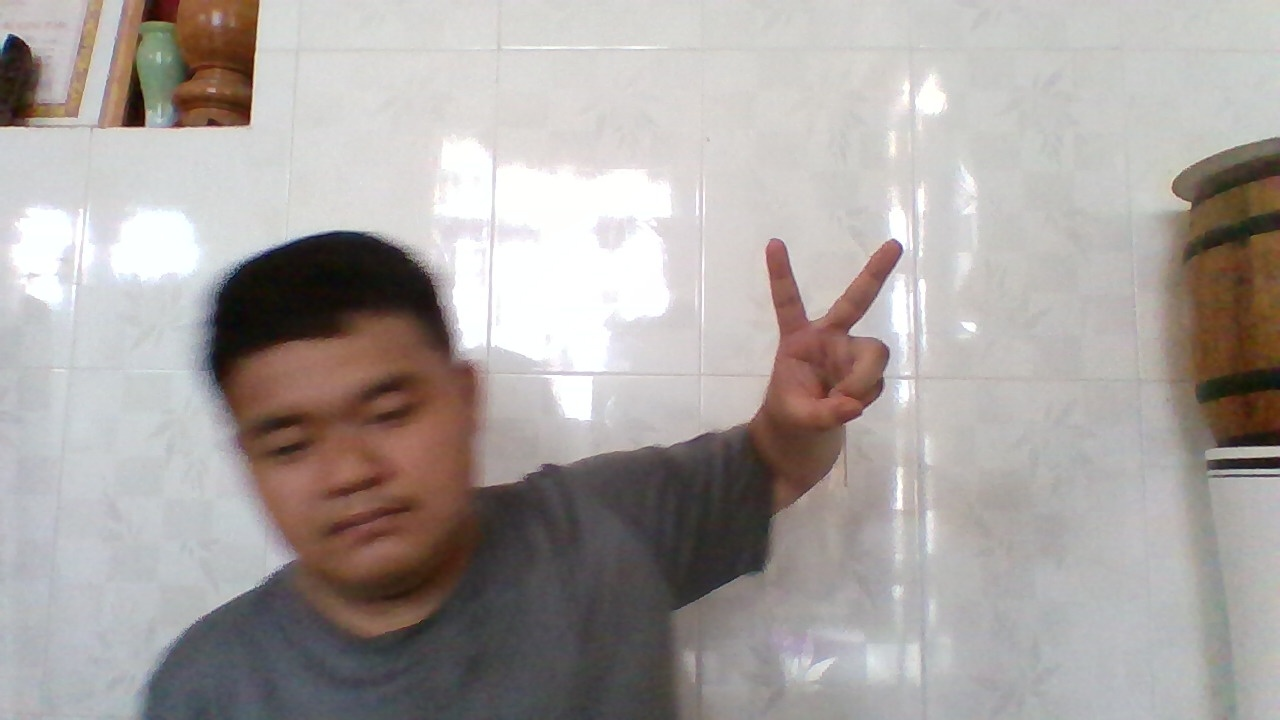V: (756, 230, 912, 446)
